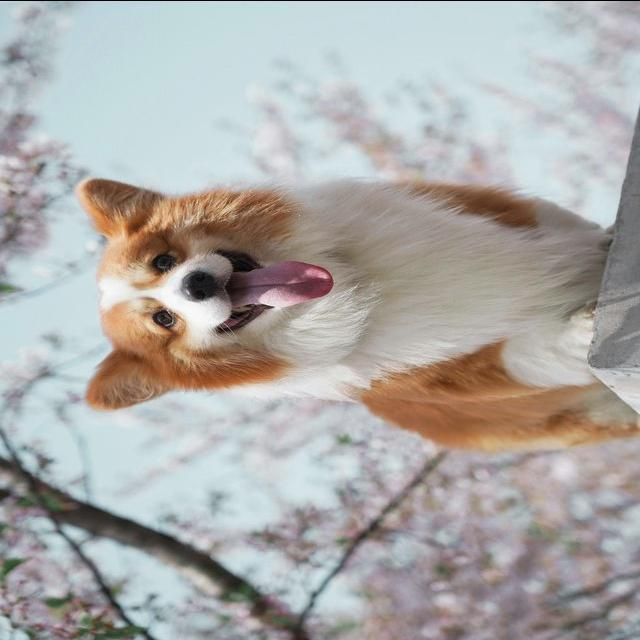corgi: (74, 173, 638, 453)
